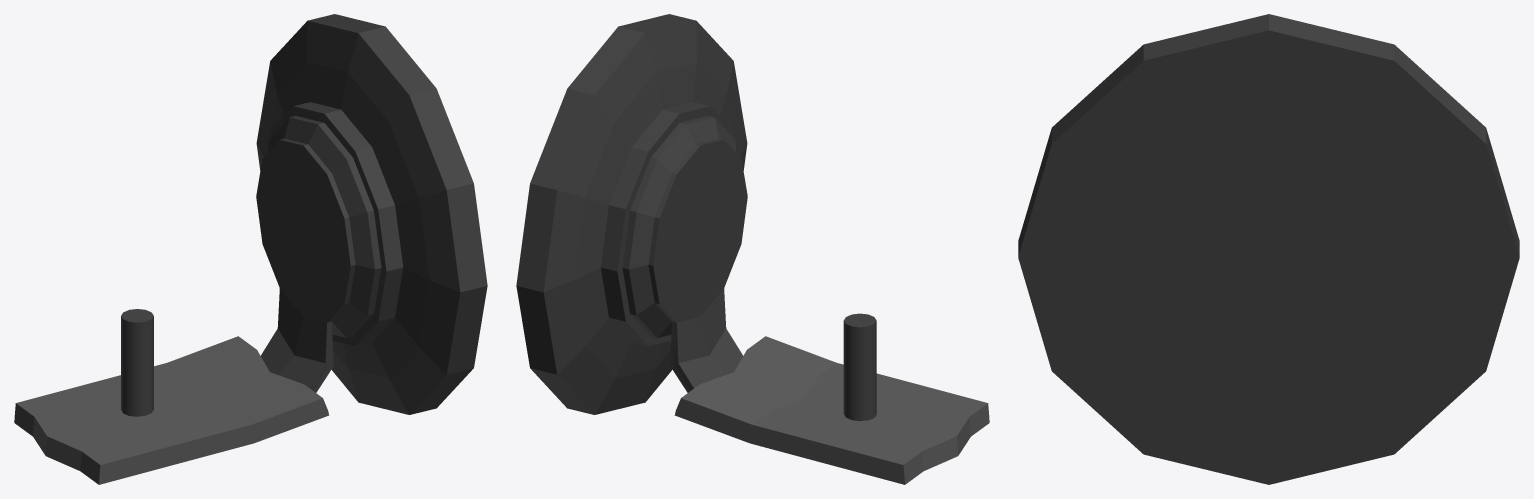
Rendered from sosten torreta.fbx.
3 renders of one model, left to right at view 1: azimuth 30°, elevation 25°; view 2: azimuth 150°, elevation 25°; view 3: azimuth 270°, elevation 25°, orthographic. The views are drawn at different scales.
Parts seen in each view (by area): view 1: Cylinder; view 2: Cylinder; view 3: Cylinder.
Part boxes in pixels (box(x1,y1,x2,y2)): Cylinder: box(14, 14, 487, 484); Cylinder: box(516, 14, 989, 484); Cylinder: box(1018, 14, 1519, 484).
Bounding box in the file's own units: 300 × 311 × 311.
